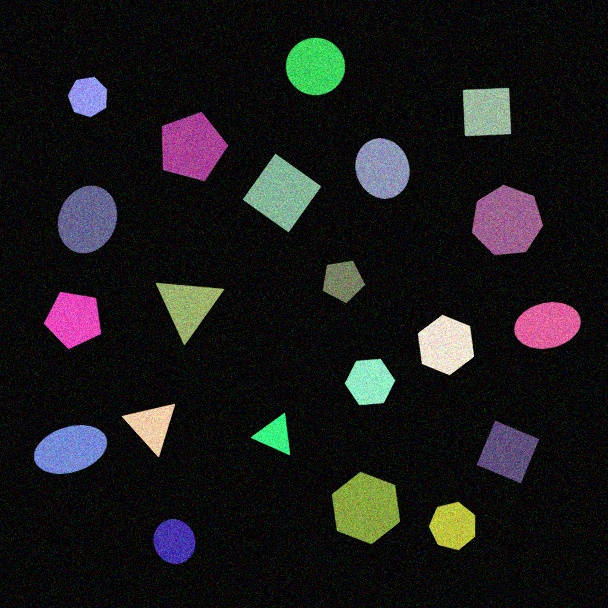Circulo: (285, 37, 346, 96), (355, 137, 410, 200), (153, 518, 196, 565)
Elipse: (57, 185, 118, 254), (33, 424, 108, 475), (513, 301, 582, 350)
Heptagono: (471, 184, 544, 256), (428, 501, 476, 551), (67, 76, 108, 118)
Hexagono: (331, 471, 401, 545), (417, 314, 475, 376), (344, 358, 396, 406)
Pentagono: (161, 111, 229, 182), (43, 291, 102, 350), (322, 260, 366, 304)
Quadrado: (242, 153, 322, 233), (476, 420, 540, 484), (462, 87, 512, 137)
Triangulo: (155, 282, 225, 346), (121, 403, 176, 458), (251, 412, 291, 456)
